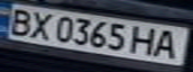0: (51, 14, 75, 44)
3: (69, 16, 93, 47)
5: (106, 20, 130, 53)
6: (87, 18, 112, 50)
A: (151, 28, 184, 60)
B: (3, 6, 36, 36)
H: (127, 25, 160, 56)
X: (24, 9, 57, 40)
